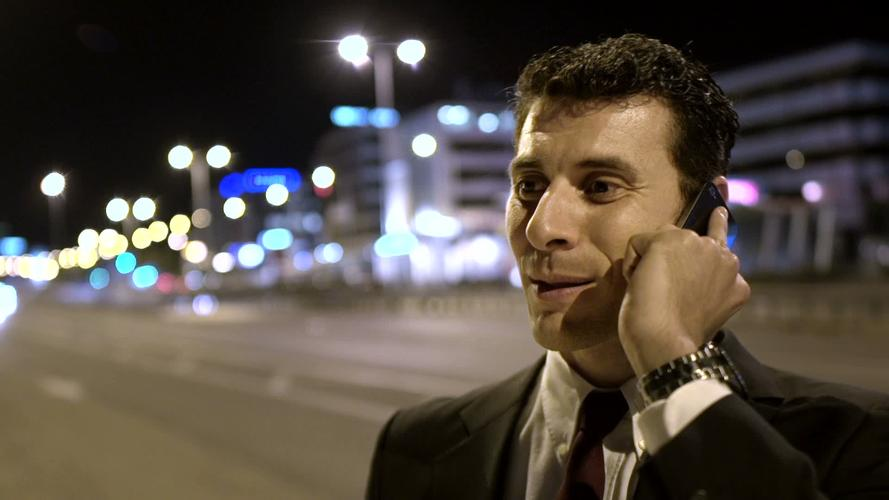calling: (615, 177, 756, 358)
